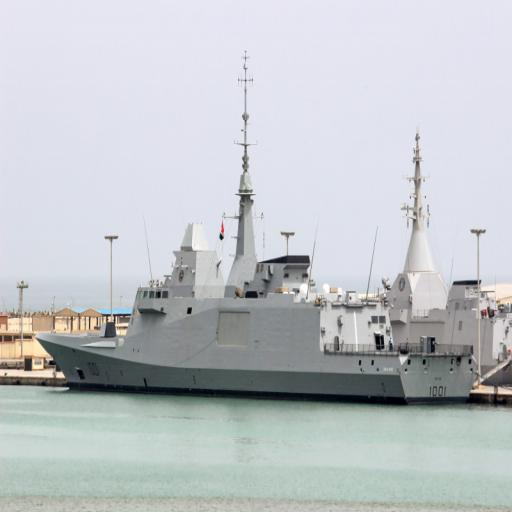Fragata: (34, 38, 479, 397)
